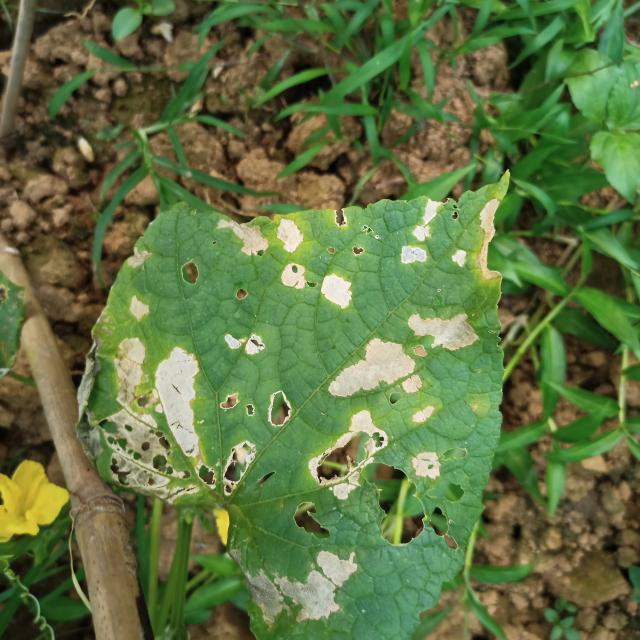disease_cucumber: (80, 194, 514, 628)
